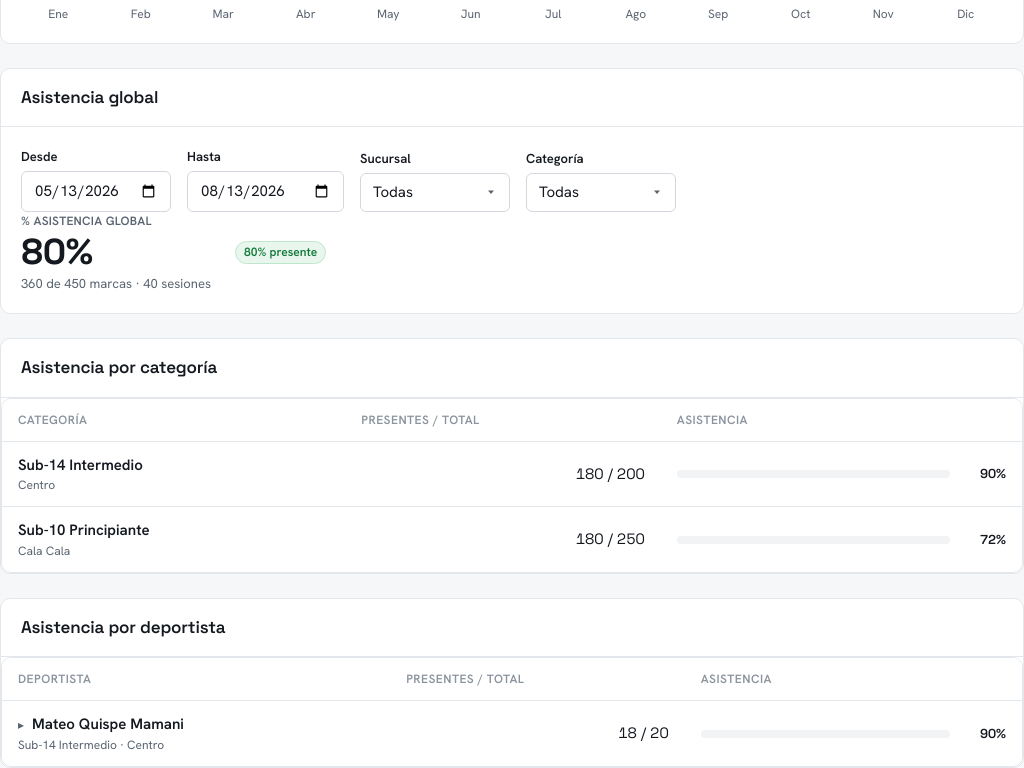
Test case: Reportes › despliega las fechas de asistencia de un deportista
(page scrolled)
Expected: the text "Ausente" is not shown
Click the button "▸ Mateo Quispe Mamani". click: (108, 724)
box: [18,713,374,736]
(page scrolled)
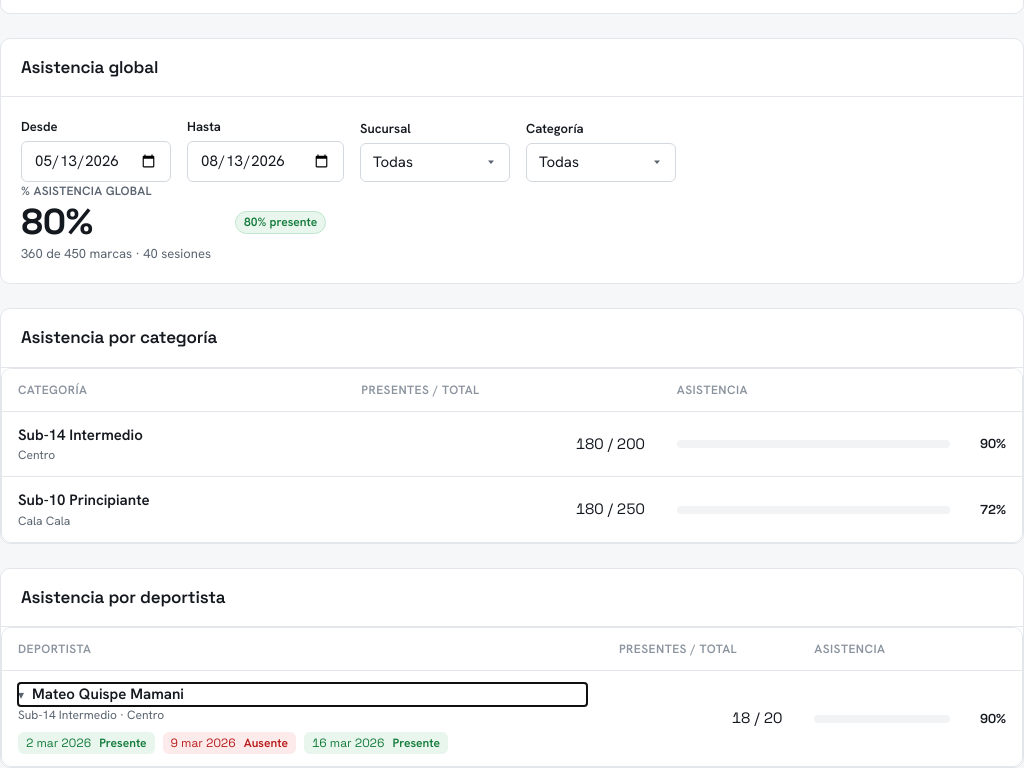
Now the text "Presente" is shown 2 times, box [99,734,147,752]; [392,734,440,752]
Now the text "Ausente" is shown, box [244,734,288,752]
